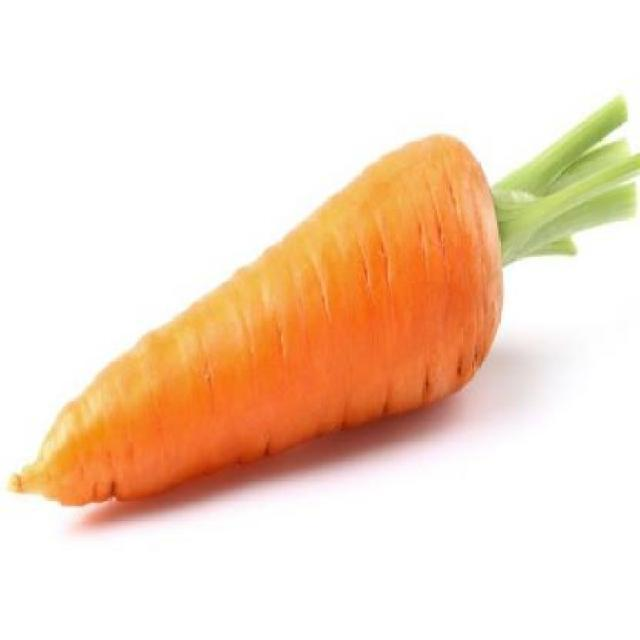carrot: (11, 102, 539, 553)
